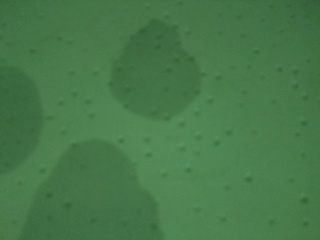Water_detected: (55, 159, 155, 240), (127, 43, 187, 104)
